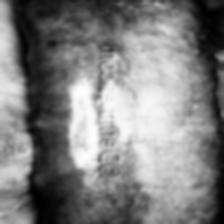Potentially Malignant Skin Tumors: (120, 43, 140, 155)
